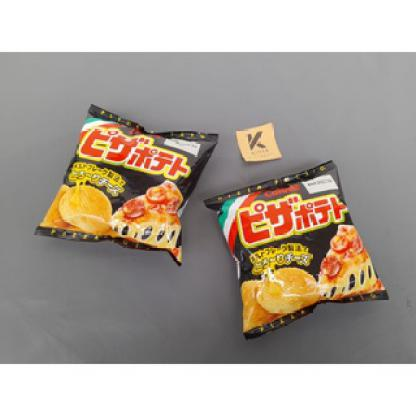potatochip: (200, 157, 392, 346), (31, 101, 224, 264)
